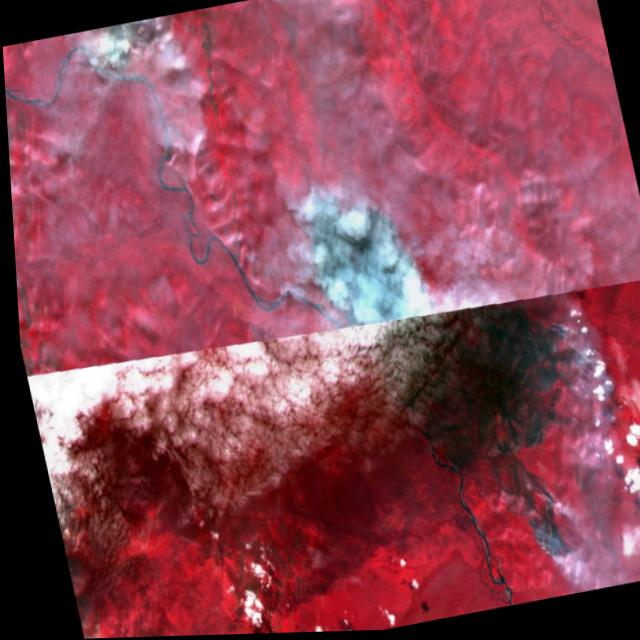fire: (476, 312, 633, 580), (289, 167, 440, 347), (85, 22, 150, 88)
